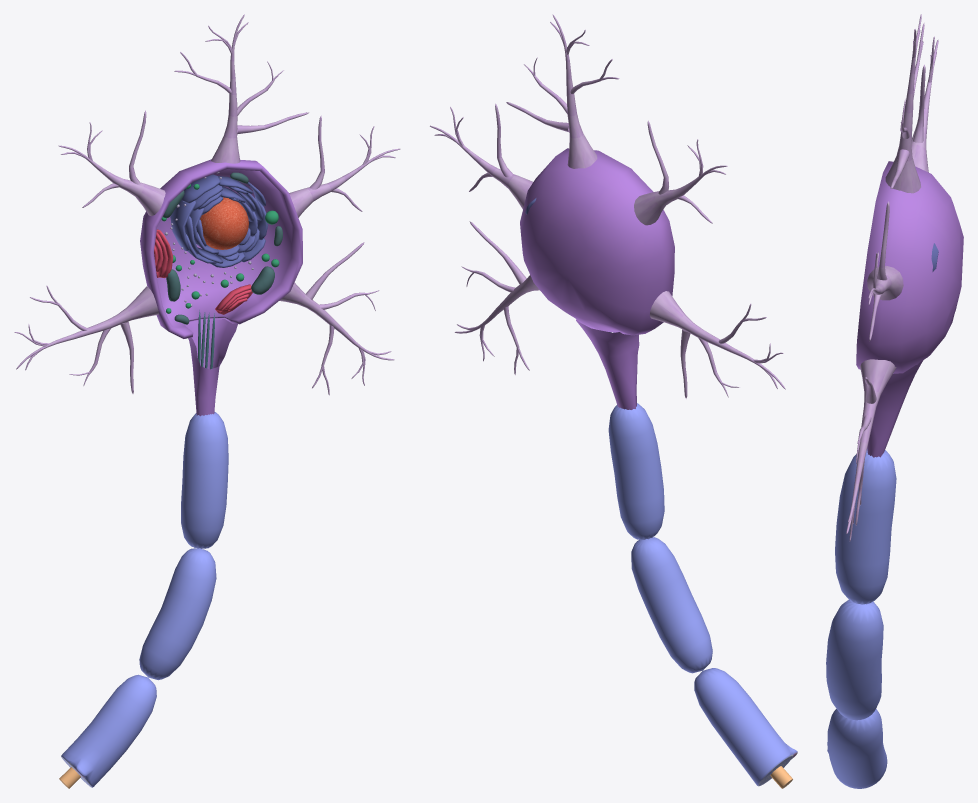
File: neuron.glb
The picture shows the model from 3 angles, left to right: view 1: azimuth 30°, elevation 25°; view 2: azimuth 150°, elevation 25°; view 3: azimuth 270°, elevation 25°; orthographic projection. The views are drawn at different scales.
Parts seen in each view (by area): view 1: neuron.001_0; view 2: neuron.001_0; view 3: neuron.001_0.
Part boxes in pixels (x1,y1,x2,y2): neuron.001_0: (14, 14, 400, 788); neuron.001_0: (430, 14, 797, 788); neuron.001_0: (826, 14, 963, 788).
Bounding box in the file's own units: 9.58 × 17.92 × 2.58.
Materials: 1 (1 with a texture image).
